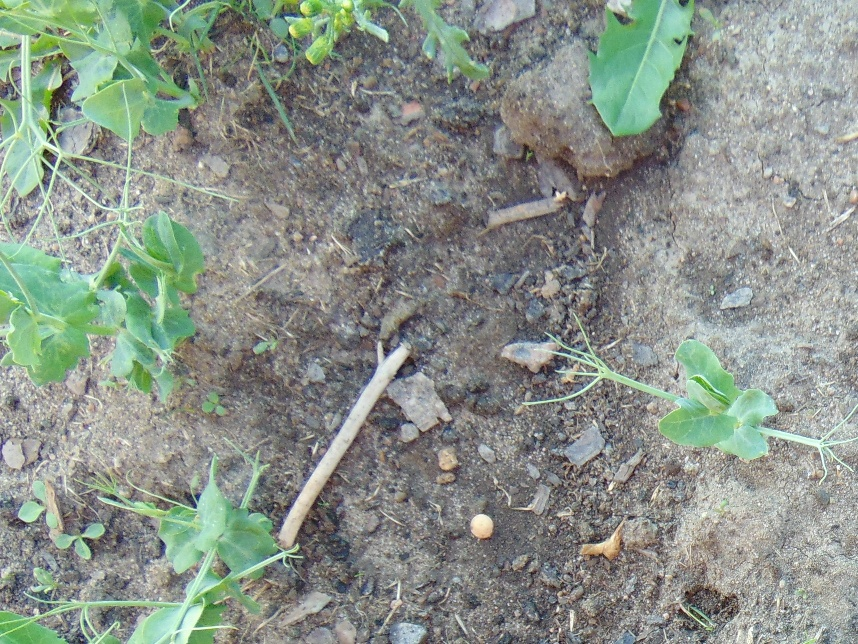crop: (1, 200, 205, 409), (82, 451, 299, 644), (1, 1, 194, 200), (571, 340, 851, 470), (1, 550, 305, 644)
weed: (581, 1, 707, 146), (253, 1, 487, 72), (188, 1, 381, 47), (18, 478, 59, 530), (56, 524, 108, 562)
